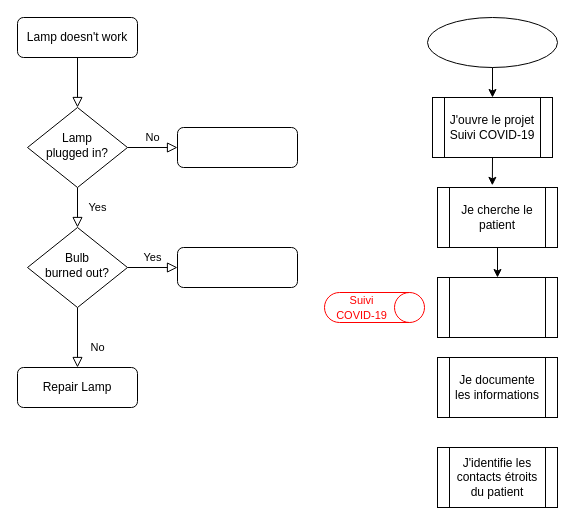
Some shapes in this 575 by 525 pixel diagram are drawn without their labels. Each missing label, with the box of its shape:
Je réalise l'appel CoviCheck: (436, 276, 558, 338)
Objectif: appeler le patient: (426, 16, 558, 68)
Plug in lamp: (176, 126, 298, 168)
Replace Bulb: (176, 246, 298, 288)
